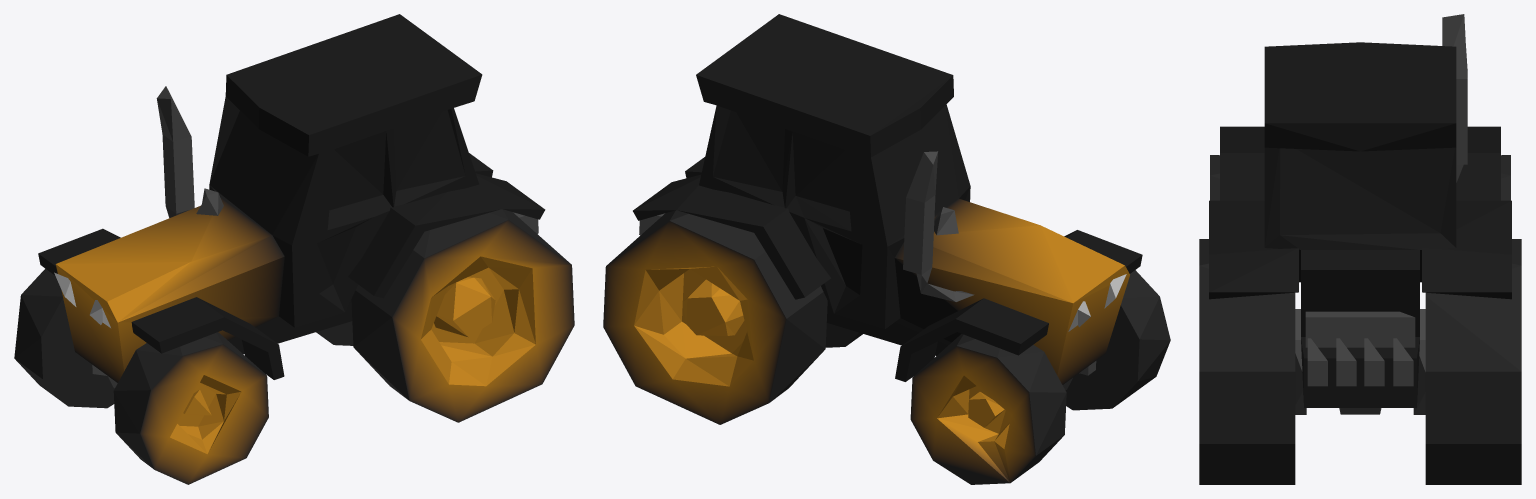
Rendered from field-tractor.lod1.glb.
The picture shows the model from 3 angles, left to right: view 1: azimuth 30°, elevation 25°; view 2: azimuth 150°, elevation 25°; view 3: azimuth 270°, elevation 25°; orthographic projection. The views are drawn at different scales.
Parts seen in each view (by area): view 1: Plane_BLACk_0; view 2: Plane_BLACk_0; view 3: Plane_BLACk_0.
Boxes of the visible parts, box(x1,y1,x2,y2) form: Plane_BLACk_0: box(14, 14, 574, 484); Plane_BLACk_0: box(603, 14, 1170, 484); Plane_BLACk_0: box(1199, 14, 1521, 484).
Bounding box in the file's own units: 4.6 × 3.17 × 2.52.
